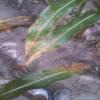Corn leaf blight: (17, 9, 98, 71), (20, 0, 83, 56), (0, 63, 97, 98)
